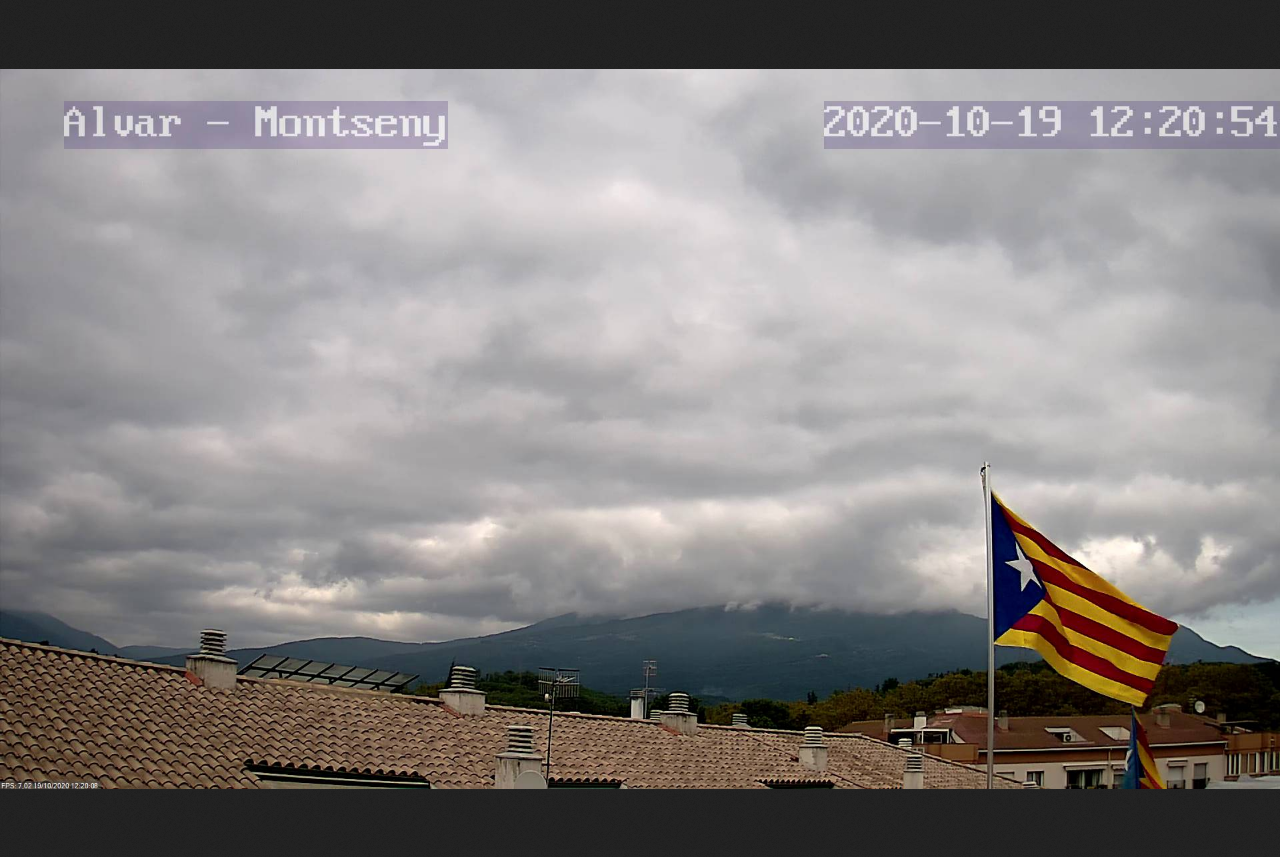maybe: (965, 454, 1189, 727)
